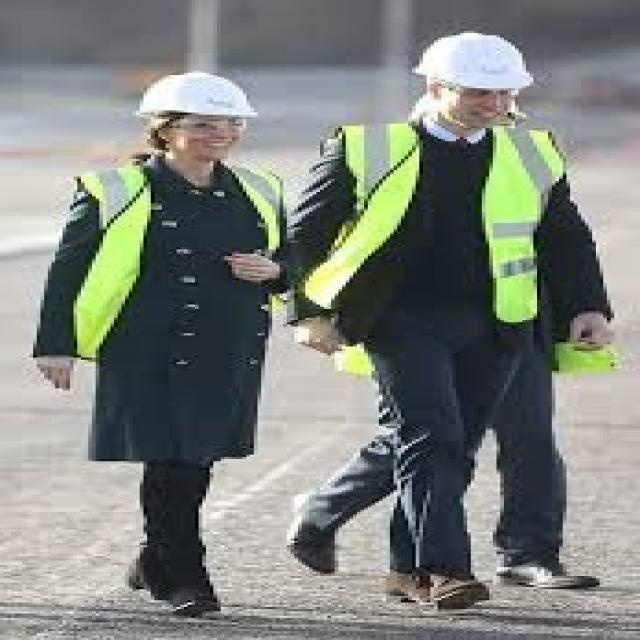Con_Chaleco: (43, 158, 293, 366), (323, 117, 552, 337)
